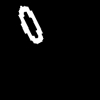chain: (19, 6, 42, 43)
